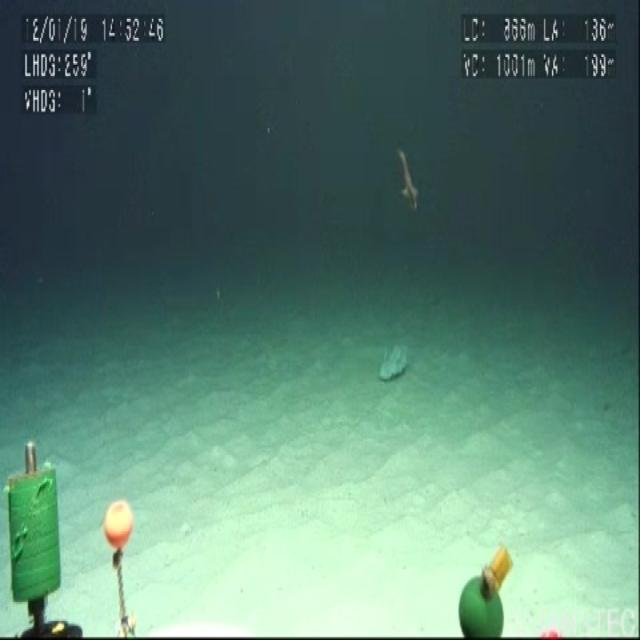Natual-Debris: (346, 306, 428, 442)
